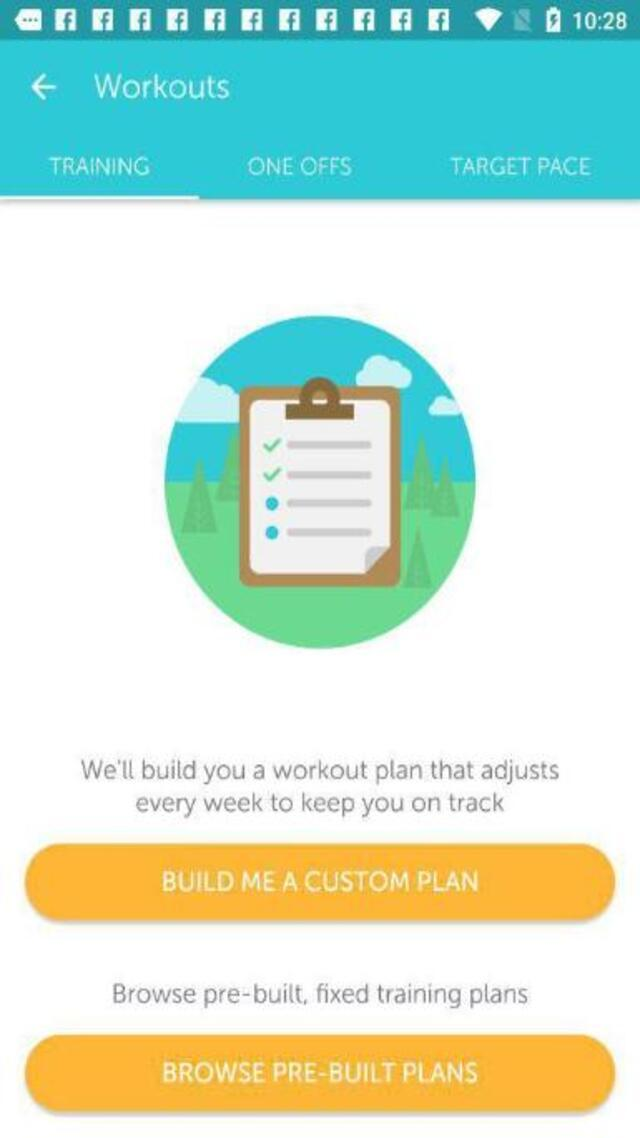Icon: (29, 73, 56, 101)
Image: (163, 315, 474, 649)
Text: (80, 757, 564, 786), (154, 1054, 487, 1091), (153, 864, 488, 899), (114, 980, 528, 1008), (130, 789, 512, 819), (93, 72, 229, 99), (447, 155, 590, 176), (48, 155, 151, 176), (248, 155, 350, 176)
TextButton: (26, 1033, 616, 1115), (23, 843, 615, 921)
